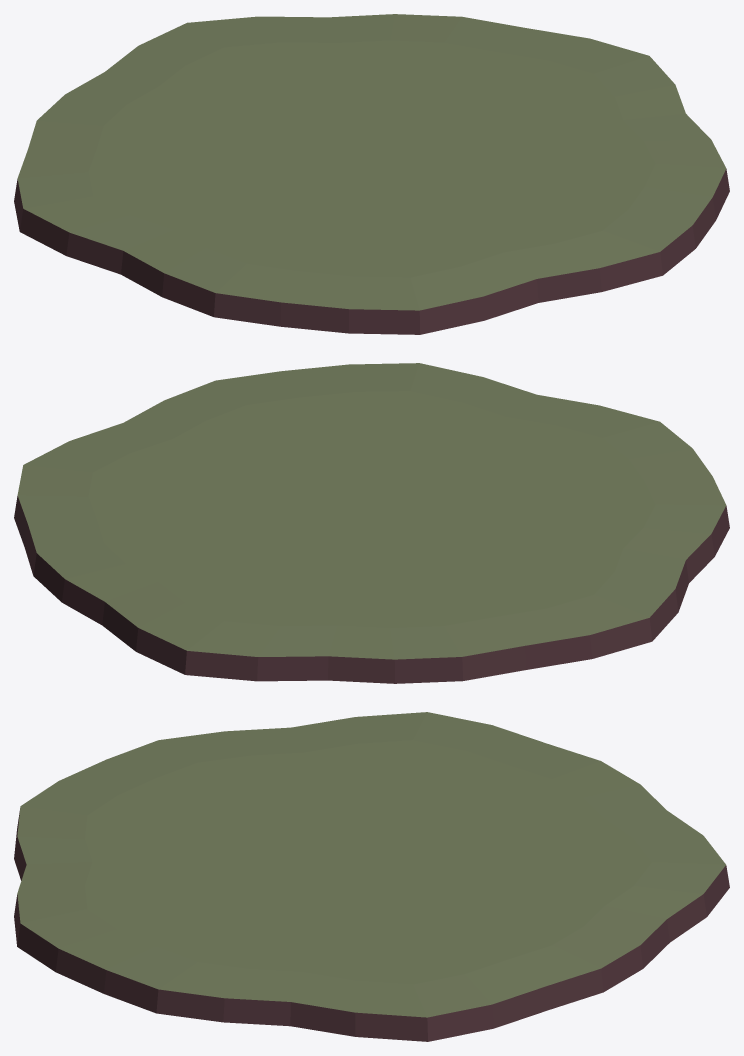
Rendered from pg_terrain.fbx.
The picture shows the model from 3 angles, top to bottom: view 1: azimuth 30°, elevation 25°; view 2: azimuth 150°, elevation 25°; view 3: azimuth 270°, elevation 25°; orthographic projection.
Visible parts, largest first — view 1: GEO-PG_Terrain; view 2: GEO-PG_Terrain; view 3: GEO-PG_Terrain.
Part boxes in pixels (bbox=[...]): GEO-PG_Terrain: bbox=[14, 14, 729, 334]; GEO-PG_Terrain: bbox=[14, 363, 729, 683]; GEO-PG_Terrain: bbox=[14, 712, 729, 1041].
Size of the model in its own units: 2087 by 130 by 2047.
